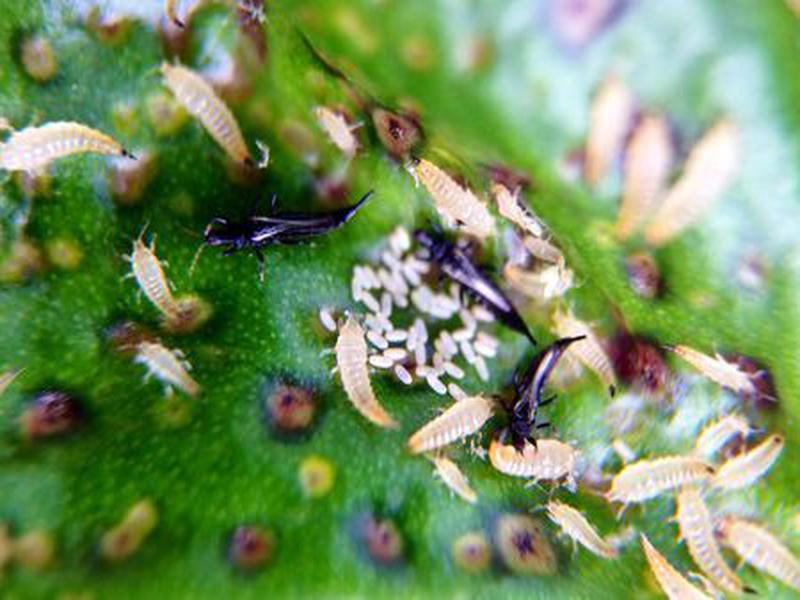Thrips: (365, 218, 775, 566), (77, 68, 356, 330)
